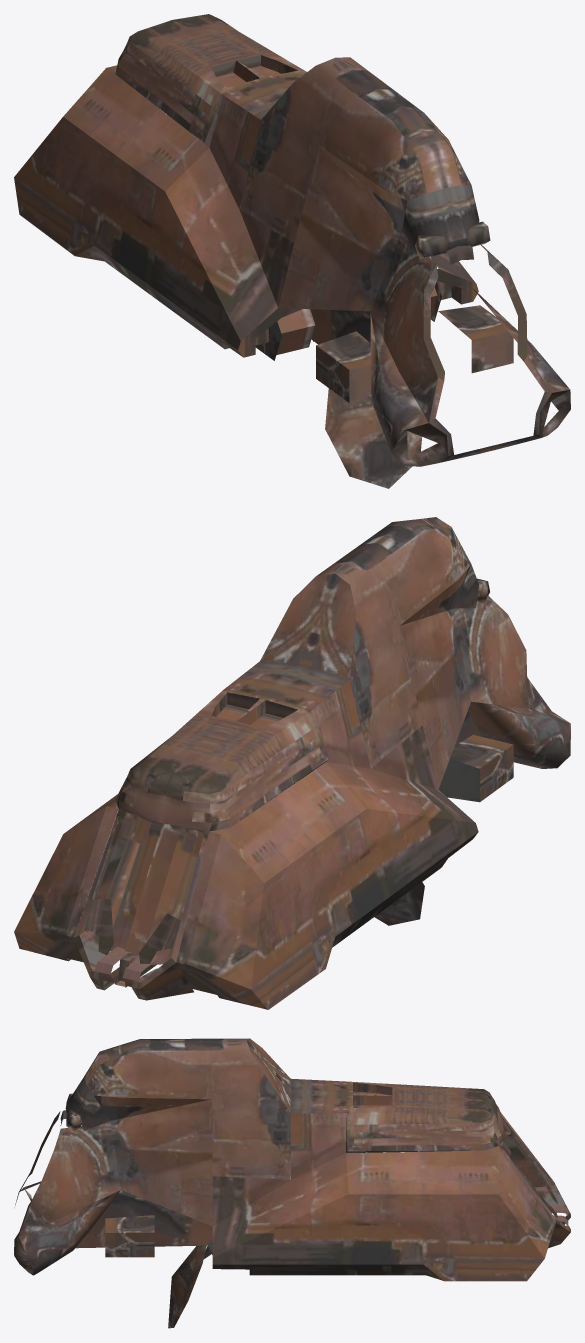
The model's file is mtt.far.glb.
3 views of the same model, one above another, from view 1: azimuth 30°, elevation 25°; view 2: azimuth 150°, elevation 25°; view 3: azimuth 270°, elevation 25° (orthographic). The views are drawn at different scales.
Size of the model in its own units: 13.8 by 20.59 by 36.12.
2 materials, 2 textured.
